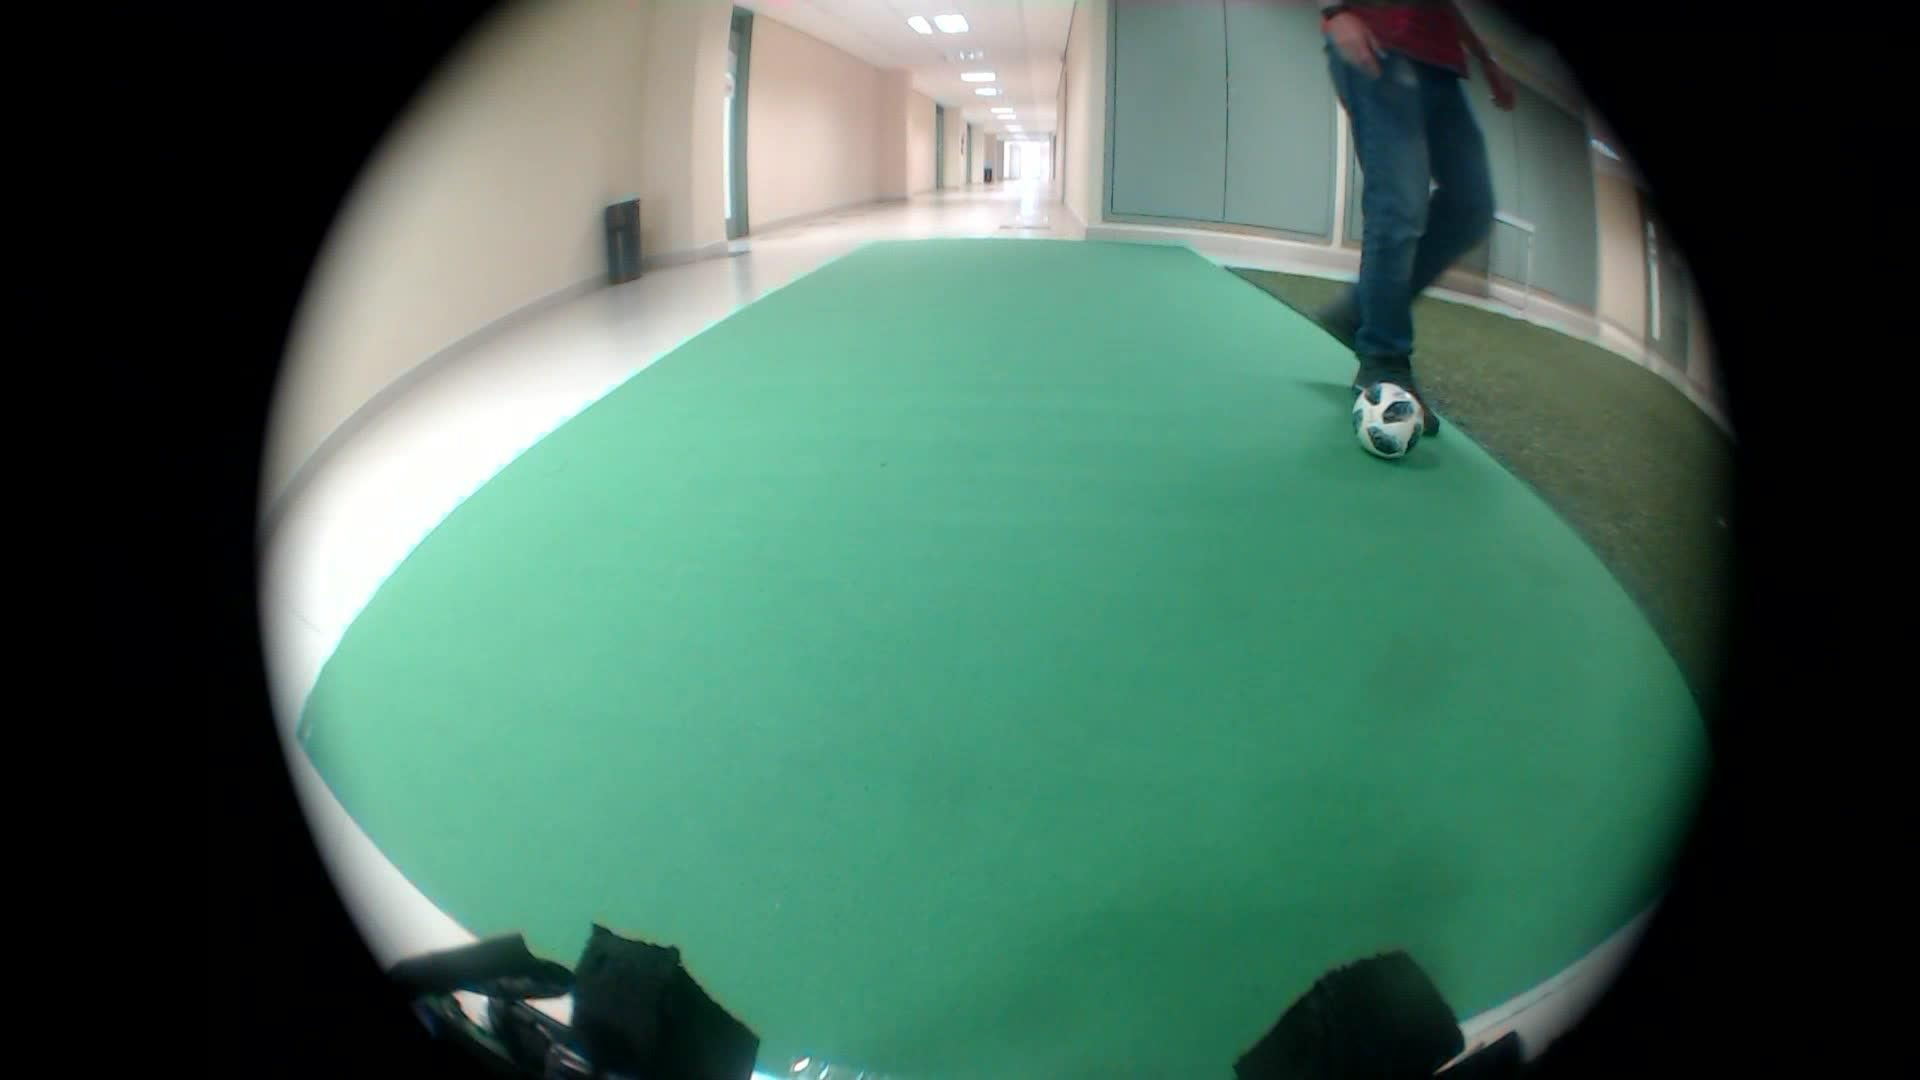ball: (1344, 375, 1437, 469)
